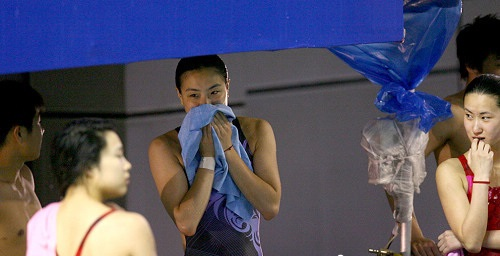face: (184, 74, 227, 124), (96, 142, 133, 199), (465, 96, 500, 149)
